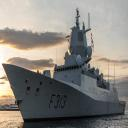Fragata: (1, 8, 89, 126)
